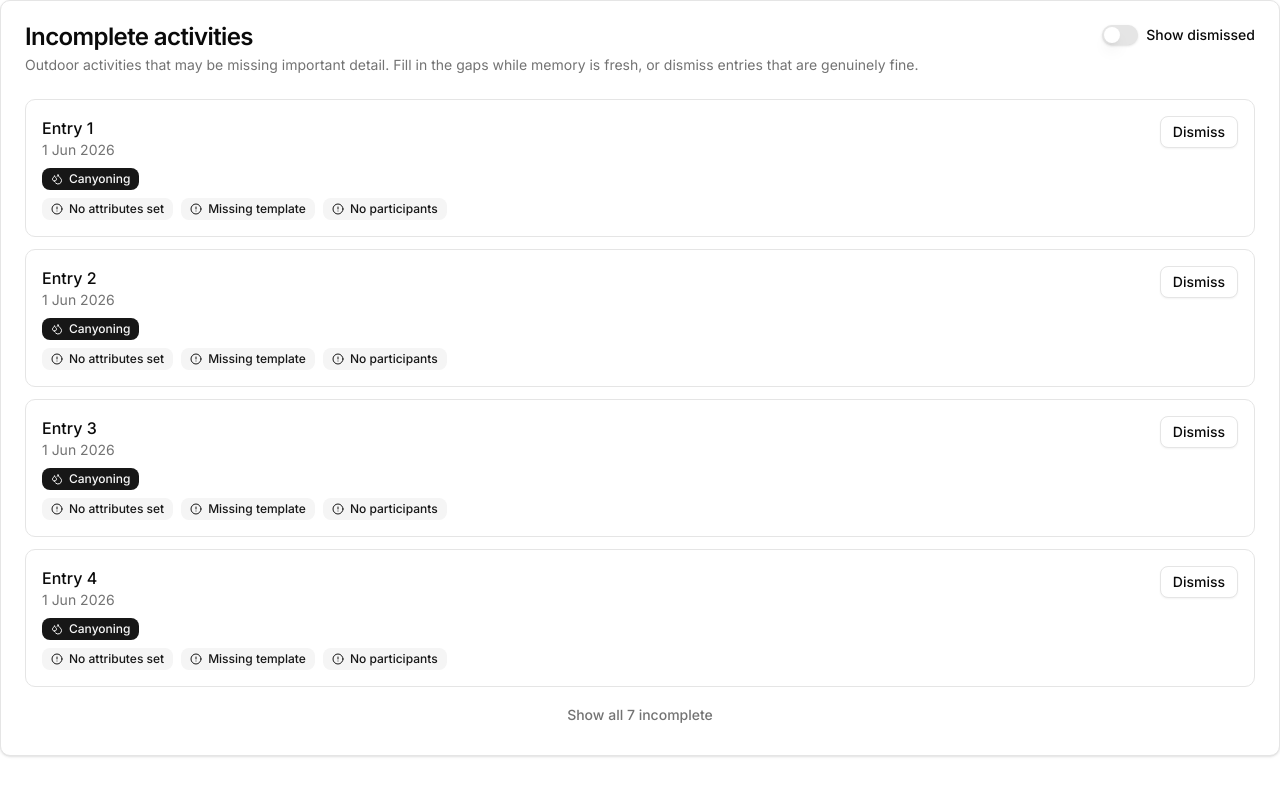
Test: IncompleteOutdoorActivitiesList › preview truncation › expands to the full list and collapses again
Click the button with test id "incomplete-show-all-toggle" at x=640, y=715, box [555,699,725,731]
(page scrolled)
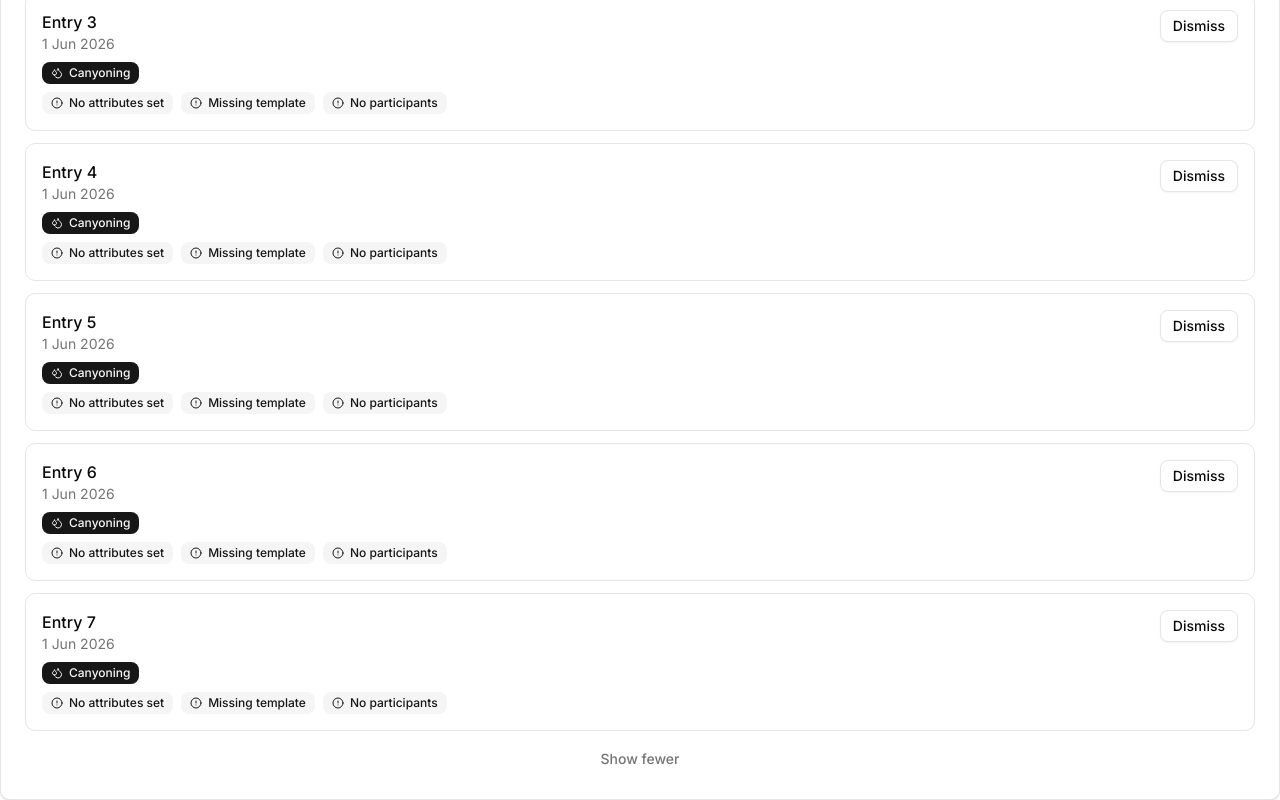
Expected: the list item with test id "incomplete-activity-item-7" is shown, [25,593,1255,731]
Expected: the button with test id "incomplete-show-all-toggle" reads "Show fewer"
Click the button with test id "incomplete-show-all-toggle" at x=640, y=759, box [588,743,692,775]
(page scrolled)
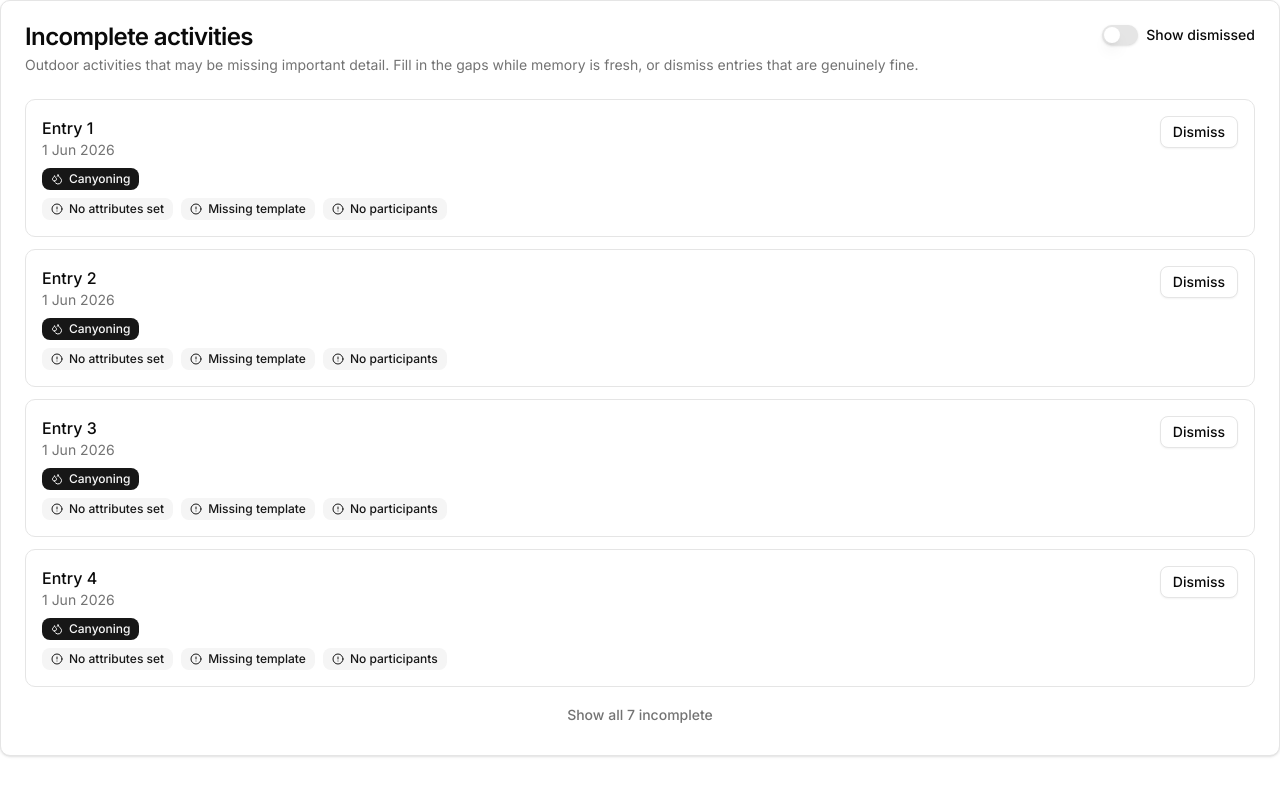
Expected: the list item with test id "incomplete-activity-item-7" is gone
